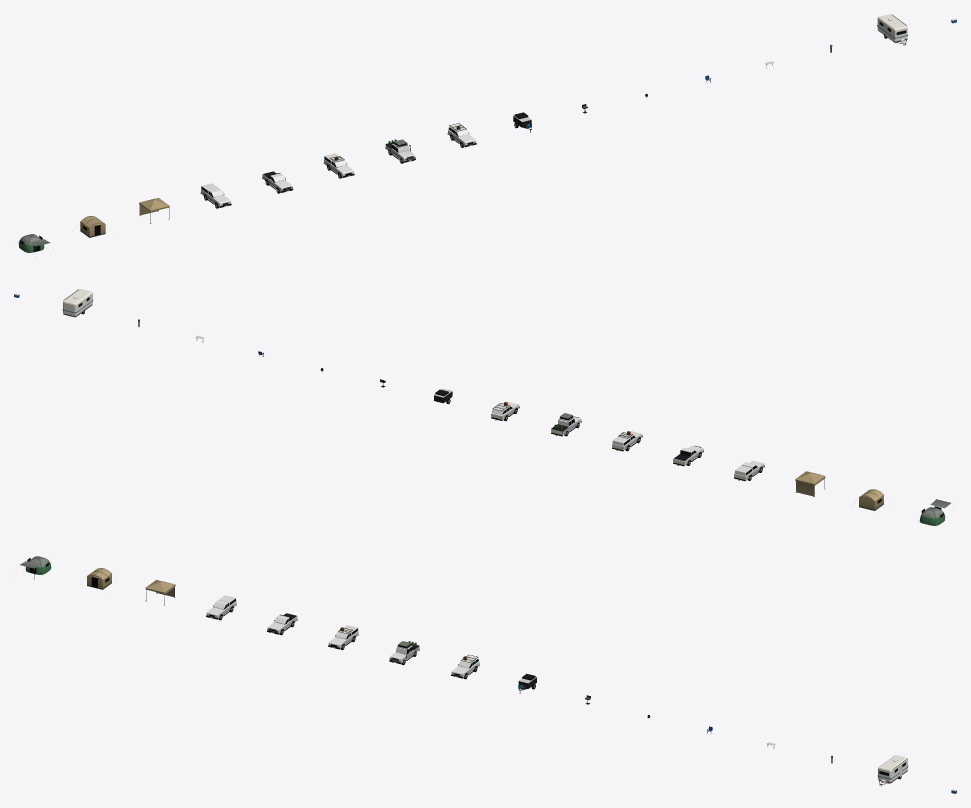
The model's file is camp.glb.
The picture shows the model from 3 angles, top to bottom: view 1: azimuth 30°, elevation 25°; view 2: azimuth 150°, elevation 25°; view 3: azimuth 330°, elevation 25°; orthographic projection.
Visible parts, largest first — view 1: caravan_lod0; view 2: caravan_lod0, tentDome_lod0; view 3: caravan_lod0.
Part boxes in pixels (x1,y1,x2,y2): caravan_lod0: [877, 14, 908, 45]; caravan_lod0: [62, 289, 93, 317]; tentDome_lod0: [917, 499, 950, 525]; caravan_lod0: [877, 755, 908, 786].
Size of what is drawn, in the model's own units: 152 by 2.76 by 7.15.
